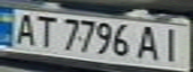6: (112, 20, 136, 58)
7: (57, 16, 81, 52), (75, 17, 96, 54)
9: (93, 20, 115, 56)
A: (9, 11, 39, 46), (136, 24, 163, 62)
I: (157, 25, 187, 63)
T: (30, 12, 57, 48)
